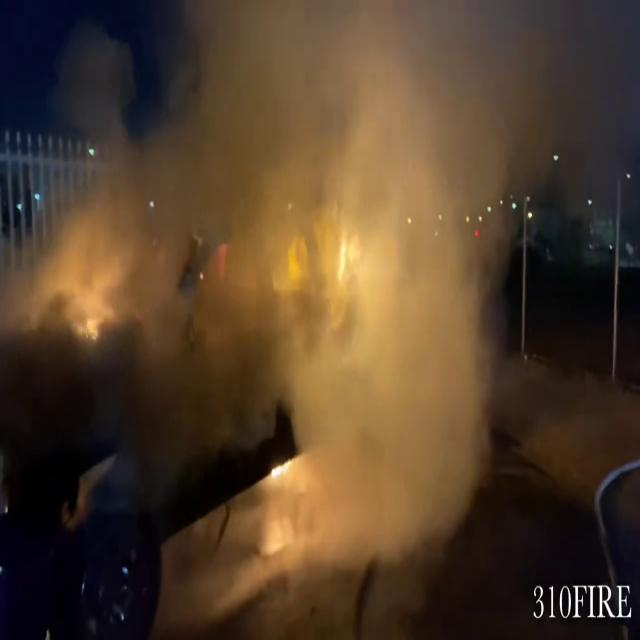Smoke: (8, 1, 530, 554)
